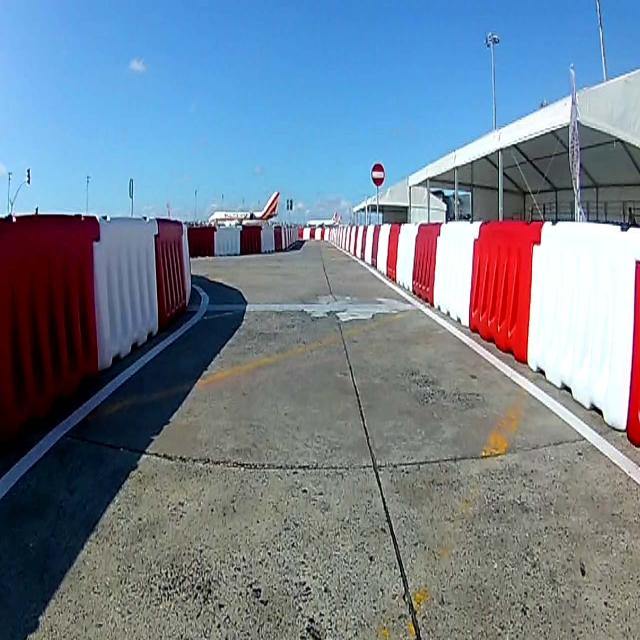girisyok: (371, 162, 385, 186)
